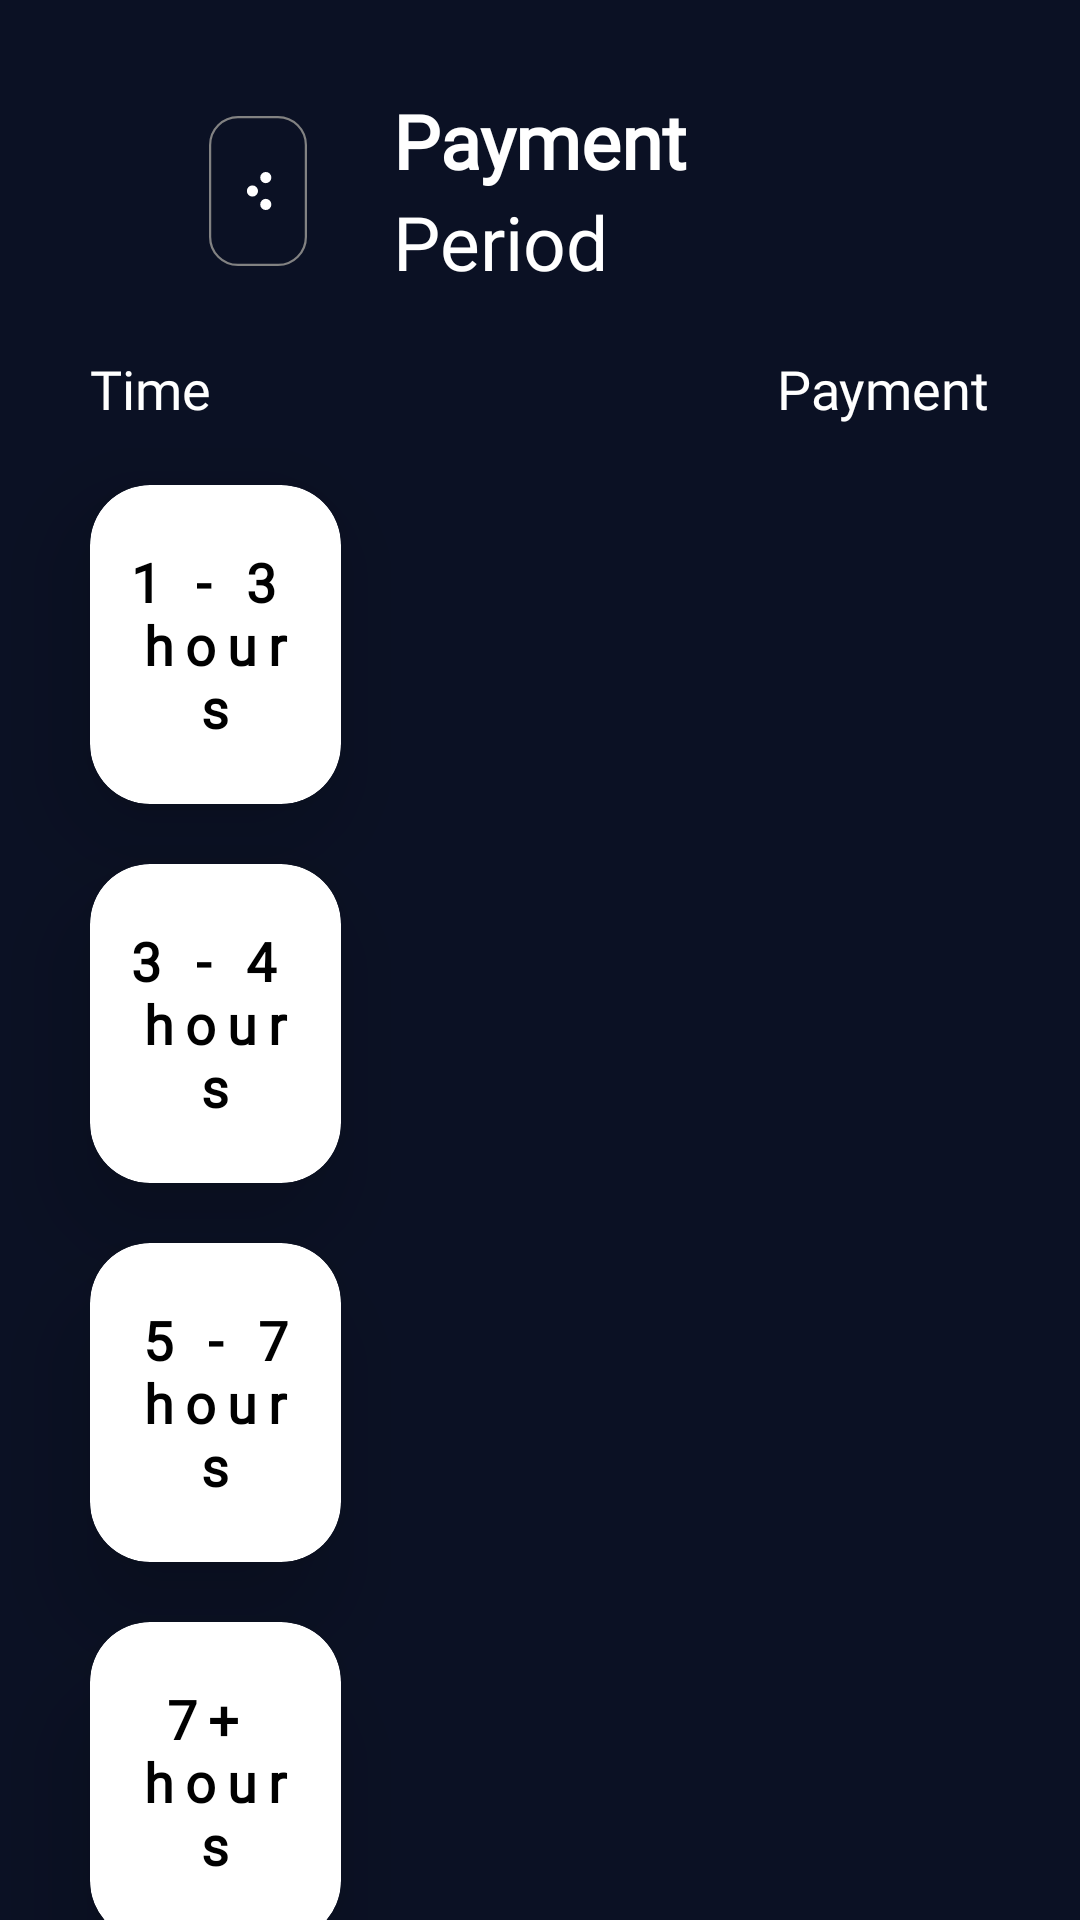

Screen size 1080px x 1920px. Icon name, then its box in pixels as (left=x1, top=y1, right=x2, bottom=y2):
dots: (left=209, top=116, right=307, bottom=266)
